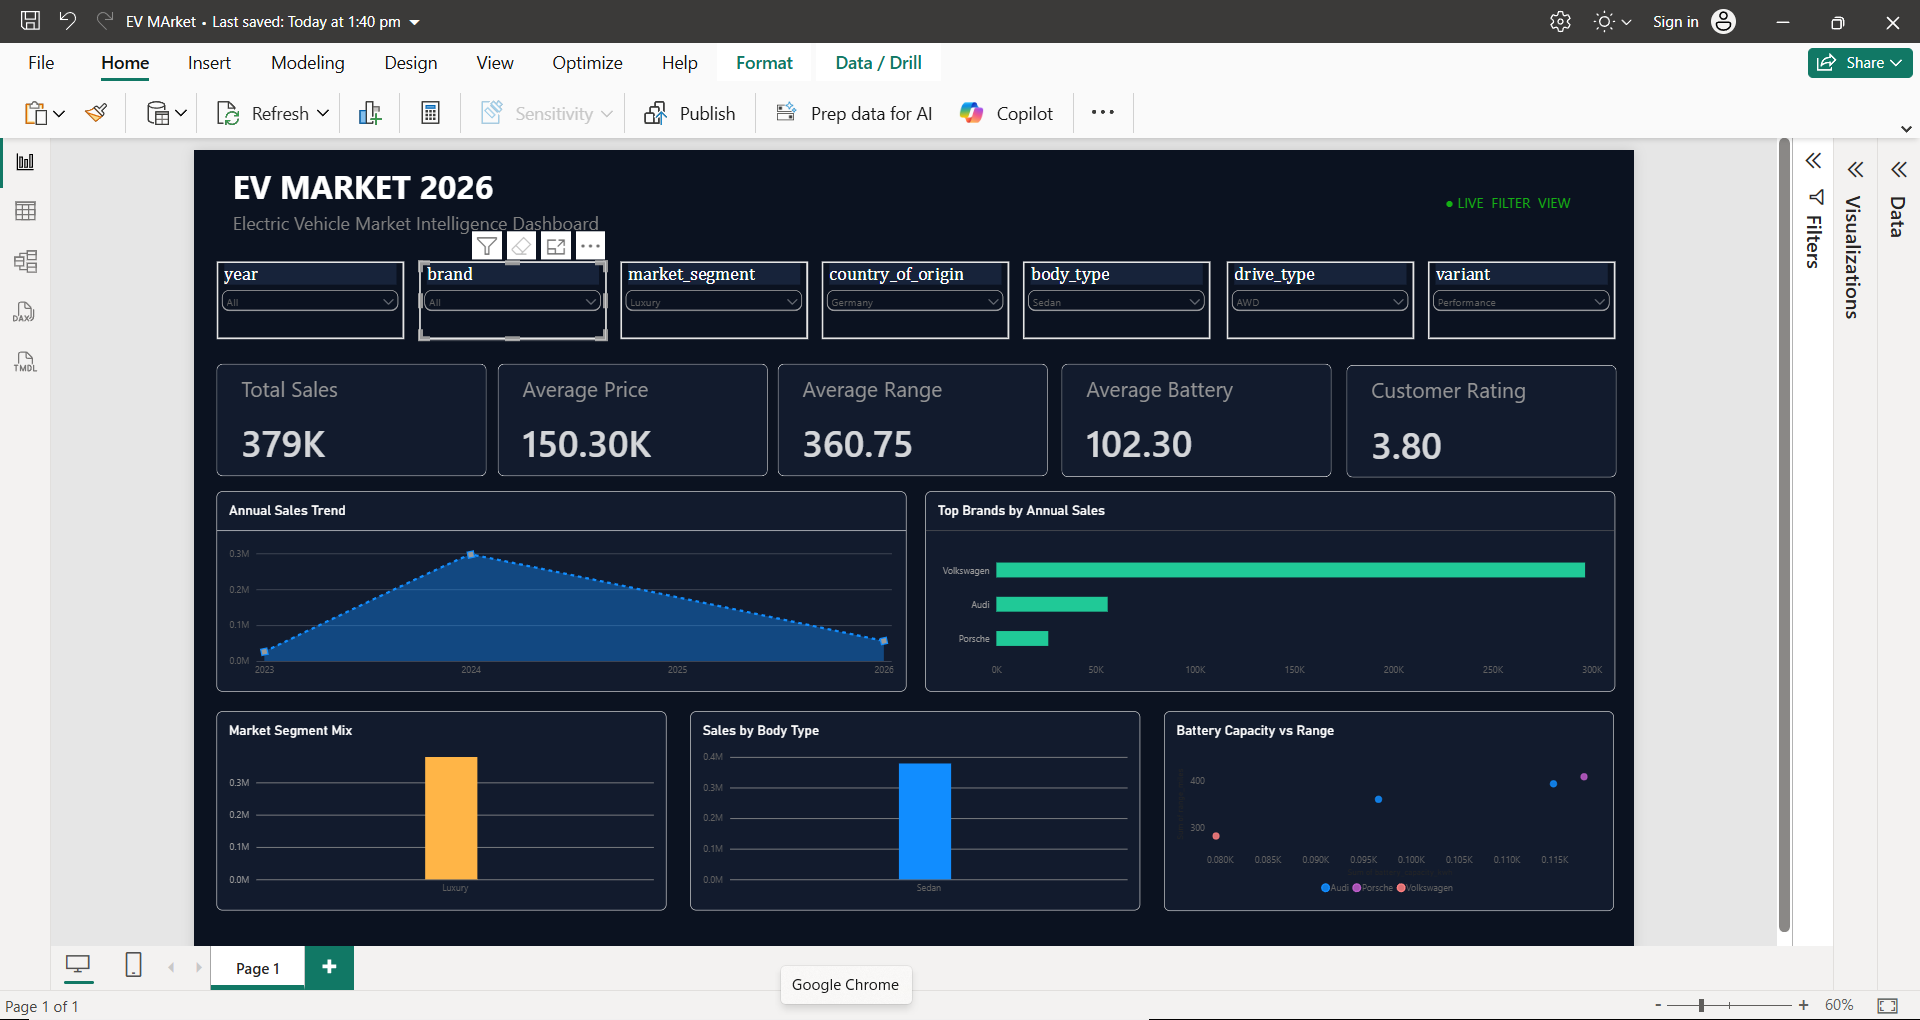

The page's visual inventory and layout, read from the dashboard file:
{"tool":"powerbi","page":{"name":"Page 1","canvas":[1920,1080],"ordinal":0},"visuals":[{"type":"textbox","box":[0,18.2,1920,121.8],"z":0},{"type":"textbox","box":[10.6,80.9,576.6,36.2],"z":1},{"type":"textbox","box":[1668.1,57.4,225.5,42.6],"z":2},{"type":"slicer","fields":{"Values":["EV_Market.year"]},"box":[29.8,148.9,250,103.6],"z":3},{"type":"slicer","fields":{"Values":["EV_Market.brand"]},"box":[300,148.9,250,103.6],"z":4},{"type":"slicer","fields":{"Values":["EV_Market.market_segment"]},"box":[568.1,148.9,250,103.6],"z":5},{"type":"slicer","fields":{"Values":["EV_Market.country_of_origin"]},"box":[836.2,148.9,250,103.6],"z":6},{"type":"slicer","fields":{"Values":["EV_Market.body_type"]},"box":[1104.3,148.9,250,103.6],"z":7},{"type":"slicer","fields":{"Values":["EV_Market.drive_type"]},"box":[1376.6,148.9,250,103.6],"z":8},{"type":"slicer","fields":{"Values":["EV_Market.variant"]},"box":[1644.7,148.9,250,103.6],"z":9},{"type":"cardVisual","fields":{"Data":["EV_Market.Total Sales"]},"box":[29.8,285.1,360,150],"z":10},{"type":"cardVisual","fields":{"Data":["EV_Market.Average Price"]},"box":[404.3,285.1,360,150],"z":11},{"type":"cardVisual","fields":{"Data":["EV_Market.Average Range"]},"box":[778.7,285.1,360,150],"z":12},{"type":"cardVisual","fields":{"Data":["EV_Market.Average Battery"]},"box":[1157.4,285.1,360,151.1],"z":13},{"type":"cardVisual","fields":{"Data":["EV_Market.Customer Rating"]},"box":[1536.2,287.2,360,150],"z":14},{"type":"lineChart","title":"Annual Sales Trend","fields":{"Category":["EV_Market.year"],"Y":["EV_Market.Total Sales"]},"box":[29.8,455.3,920,267.5],"z":15},{"type":"clusteredBarChart","title":"Top Brands by Annual Sales","fields":{"Category":["EV_Market.brand"],"Y":["EV_Market.Total Sales"]},"box":[974.5,455.3,920,267.5],"z":16},{"type":"clusteredColumnChart","title":"Market Segment Mix","fields":{"Category":["EV_Market.market_segment"],"Y":["EV_Market.Total Sales"]},"box":[29.8,748.9,600,266],"z":17},{"type":"clusteredColumnChart","title":"Sales by Body Type","fields":{"Category":["EV_Market.body_type"],"Y":["EV_Market.Total Sales"]},"box":[661.7,748.9,600,266],"z":18},{"type":"scatterChart","title":"Battery Capacity vs Range","fields":{"Category":["EV_Market.model"],"Series":["EV_Market.brand"],"X":["Sum(EV_Market.battery_capacity_kwh)"],"Y":["Sum(EV_Market.range_miles)"]},"box":[1293.6,748.9,600,266],"z":19}]}

Visuals, with their boxes on the page's 1920x1080 design canvas (x1, y1, x2, y2). These are canvas units, not pixel positions in the 1920x1020 screenshot, which may show the page scaled, cropped or inside an application window:
textbox: bbox=[0, 18, 1920, 140]
textbox: bbox=[11, 81, 587, 117]
textbox: bbox=[1668, 57, 1894, 100]
slicer - EV_Market.year: bbox=[30, 149, 280, 252]
slicer - EV_Market.brand: bbox=[300, 149, 550, 252]
slicer - EV_Market.market_segment: bbox=[568, 149, 818, 252]
slicer - EV_Market.country_of_origin: bbox=[836, 149, 1086, 252]
slicer - EV_Market.body_type: bbox=[1104, 149, 1354, 252]
slicer - EV_Market.drive_type: bbox=[1377, 149, 1627, 252]
slicer - EV_Market.variant: bbox=[1645, 149, 1895, 252]
cardVisual - EV_Market.Total Sales: bbox=[30, 285, 390, 435]
cardVisual - EV_Market.Average Price: bbox=[404, 285, 764, 435]
cardVisual - EV_Market.Average Range: bbox=[779, 285, 1139, 435]
cardVisual - EV_Market.Average Battery: bbox=[1157, 285, 1517, 436]
cardVisual - EV_Market.Customer Rating: bbox=[1536, 287, 1896, 437]
"Annual Sales Trend" lineChart: bbox=[30, 455, 950, 723]
"Top Brands by Annual Sales" clusteredBarChart: bbox=[974, 455, 1894, 723]
"Market Segment Mix" clusteredColumnChart: bbox=[30, 749, 630, 1015]
"Sales by Body Type" clusteredColumnChart: bbox=[662, 749, 1262, 1015]
"Battery Capacity vs Range" scatterChart: bbox=[1294, 749, 1894, 1015]
